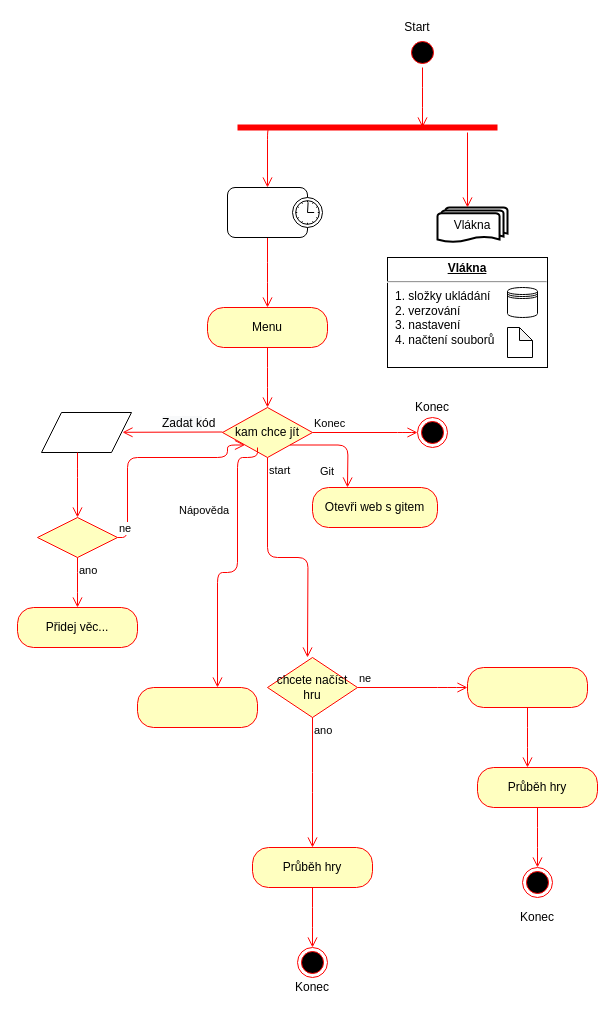
Image size: 615x1014. Some labels were removed from this diagram. The shapes that lost their labels are listed below. From the top down, each one's centre as x and y in pixels, then its label:
At (x=267, y=212): "Loading".
At (x=86, y=432): "Zadej k ód".
At (x=77, y=537): "Je správný".
At (x=197, y=707): "Otevři nápovědu".
At (x=527, y=687): "Nastav věci".
